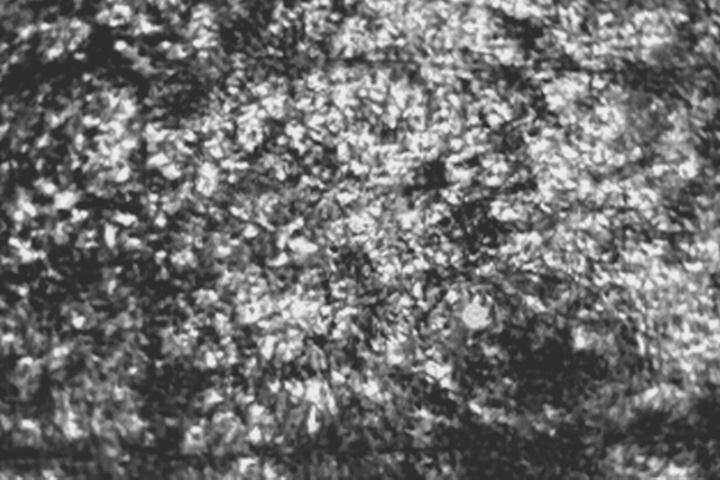landmine: (462, 299, 491, 335)
